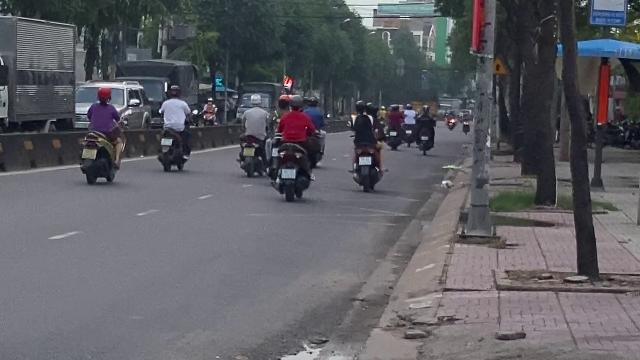helmet: (96, 86, 110, 102)
licenseplate: (82, 148, 96, 158)
motorcyclist: (79, 86, 123, 184)
